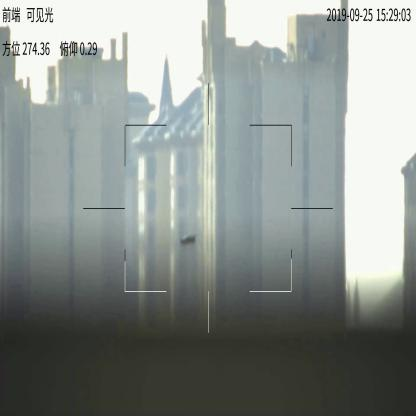uav: (180, 233, 197, 246)
